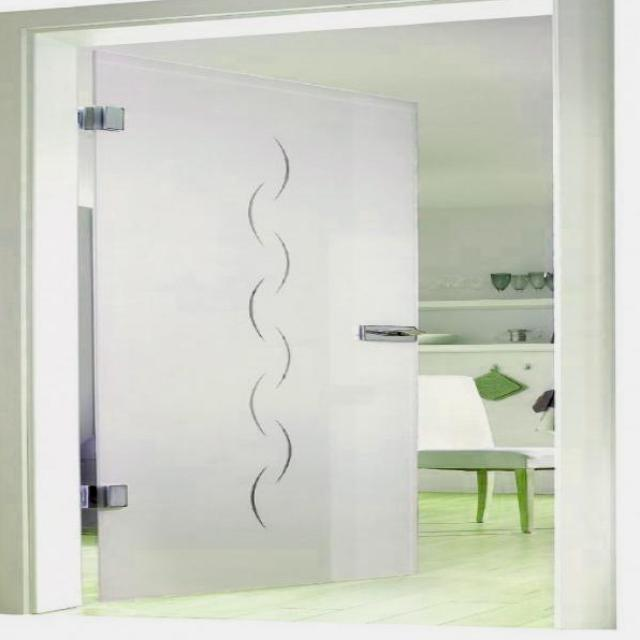door: (89, 49, 420, 601)
